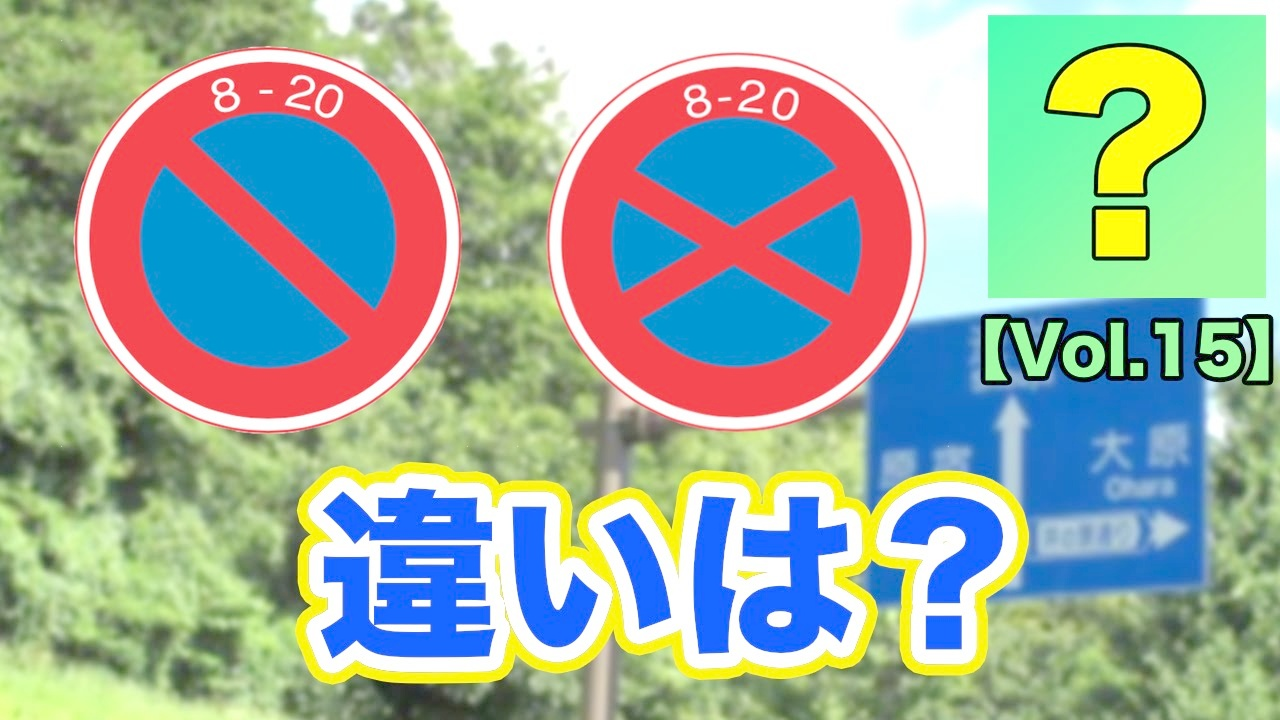Prohibition_sign: (61, 34, 499, 467), (546, 27, 948, 443)
